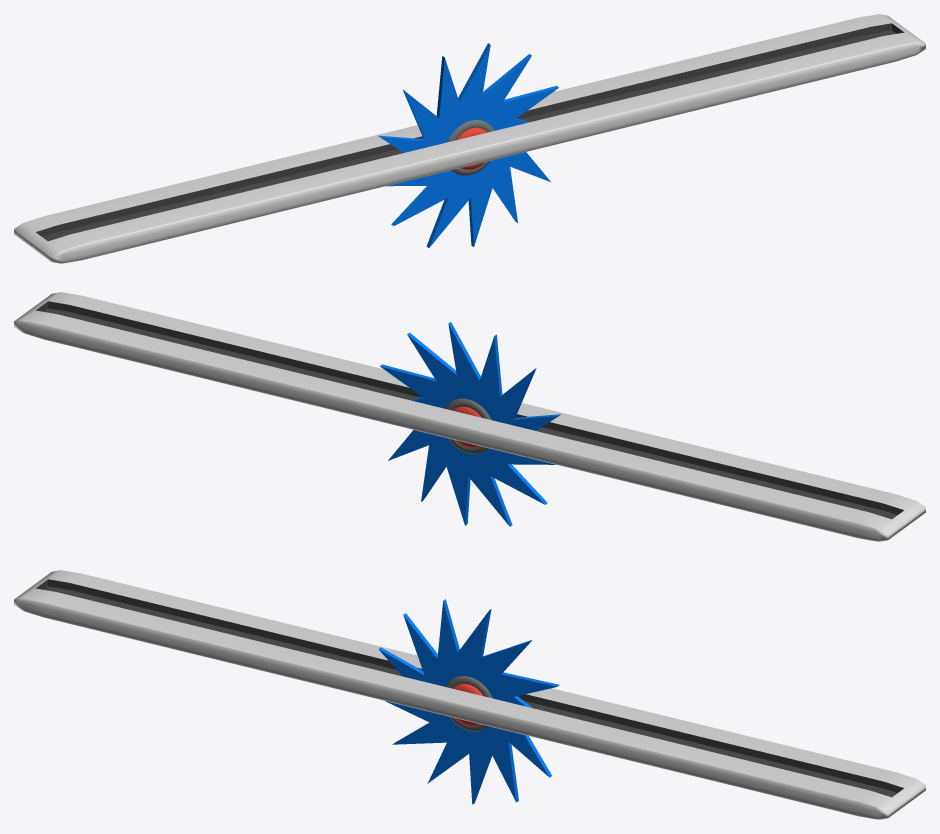
File: saw.fbx
3 views of the same model, one above another, from view 1: azimuth 30°, elevation 25°; view 2: azimuth 150°, elevation 25°; view 3: azimuth 330°, elevation 25° (orthographic).
Visible parts, largest first — view 1: saw_base, saw; view 2: saw_base, saw; view 3: saw_base, saw.
Boxes of the visible parts, left/top/right/bottom form: saw_base: left=14, top=14, right=925, bottom=263; saw: left=378, top=43, right=558, bottom=247; saw_base: left=14, top=292, right=925, bottom=541; saw: left=380, top=322, right=560, bottom=526; saw_base: left=14, top=570, right=925, bottom=819; saw: left=378, top=599, right=559, bottom=804.
Bounding box in the file's own units: 1155 × 251 × 93.06.
